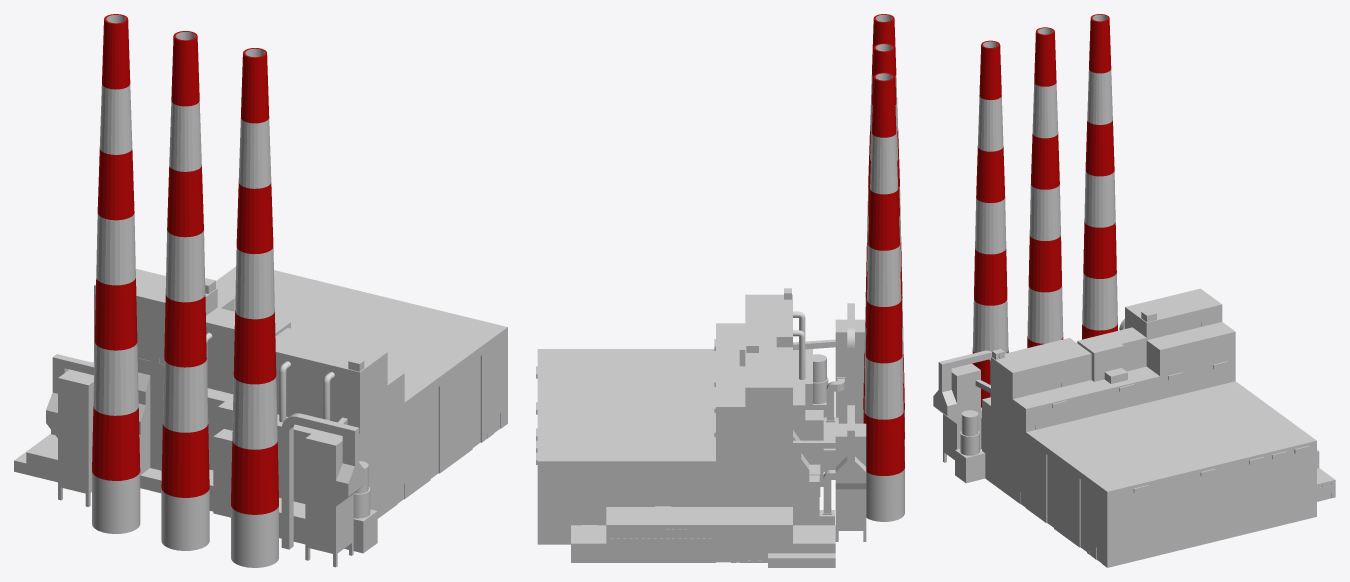
Rendered from 08 Tufts Cove Power Station with images.dae.
The picture shows the model from 3 angles, left to right: view 1: azimuth 30°, elevation 25°; view 2: azimuth 150°, elevation 25°; view 3: azimuth 270°, elevation 25°; orthographic projection. The views are drawn at different scales.
Visible parts, largest first — view 1: group_0 (×27); view 2: group_0 (×14); view 3: group_0 (×20).
Boxes of the visible parts, x1=… form: group_0 (×27): x1=14, y1=14, x2=507, y2=567; group_0 (×14): x1=537, y1=14, x2=904, y2=567; group_0 (×20): x1=933, y1=14, x2=1335, y2=567.
Bounding box in the file's own units: 271 × 284 × 310.
